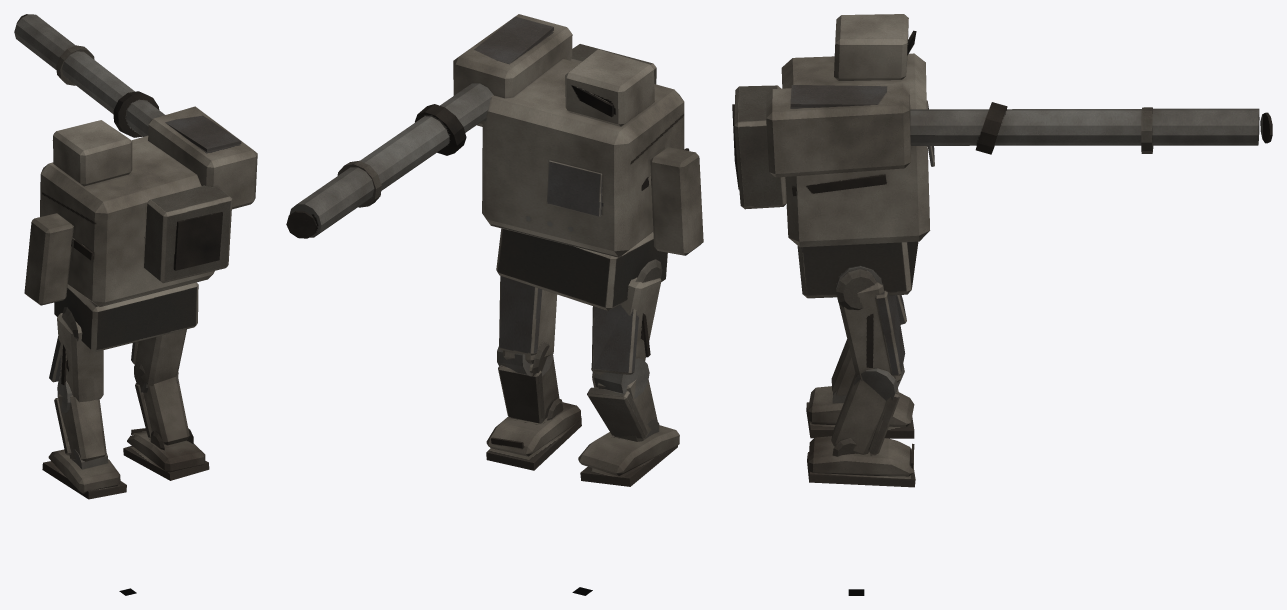
Rendered from ord_mace_wreck.fbx.
The picture shows the model from 3 angles, left to right: view 1: azimuth 30°, elevation 25°; view 2: azimuth 150°, elevation 25°; view 3: azimuth 270°, elevation 25°; orthographic projection. The views are drawn at different scales.
Visible parts, largest first — view 1: torso_bar, base_bar, thighL_bar, shinL_bar, shinR_bar, footR_bar, thighR_bar, footL_bar; view 2: torso_bar, base_bar, thighL_bar, thighR_bar, footL_bar, footR_bar, shinL_bar, shinR_bar; view 3: torso_bar, thighR_bar, base_bar, footR_bar, shinR_bar, footL_bar, shinL_bar.
Boxes of the visible parts, left/top/right/bottom form: torso_bar: left=14, top=14, right=257, bottom=306; base_bar: left=54, top=282, right=198, bottom=352; thighL_bar: left=49, top=307, right=103, bottom=412; shinL_bar: left=54, top=394, right=108, bottom=469; shinR_bar: left=135, top=377, right=193, bottom=450; footR_bar: left=123, top=428, right=209, bottom=480; thighR_bar: left=131, top=329, right=186, bottom=392; footL_bar: left=42, top=449, right=126, bottom=499; torso_bar: left=286, top=14, right=703, bottom=257; base_bar: left=496, top=228, right=667, bottom=310; thighL_bar: left=591, top=259, right=662, bottom=398; thighR_bar: left=497, top=276, right=557, bottom=376; footL_bar: left=578, top=425, right=679, bottom=486; footR_bar: left=486, top=402, right=581, bottom=470; shinL_bar: left=587, top=379, right=659, bottom=441; shinR_bar: left=498, top=355, right=563, bottom=423; torso_bar: left=732, top=14, right=1272, bottom=247; thighR_bar: left=836, top=266, right=905, bottom=400; base_bar: left=797, top=241, right=918, bottom=298; footR_bar: left=807, top=436, right=915, bottom=487; shinR_bar: left=831, top=373, right=899, bottom=456; footL_bar: left=806, top=386, right=914, bottom=438; shinL_bar: left=831, top=339, right=855, bottom=403.
Size of the model in its own units: 334 by 768 by 684.
Materials: 2 (2 with a texture image).
